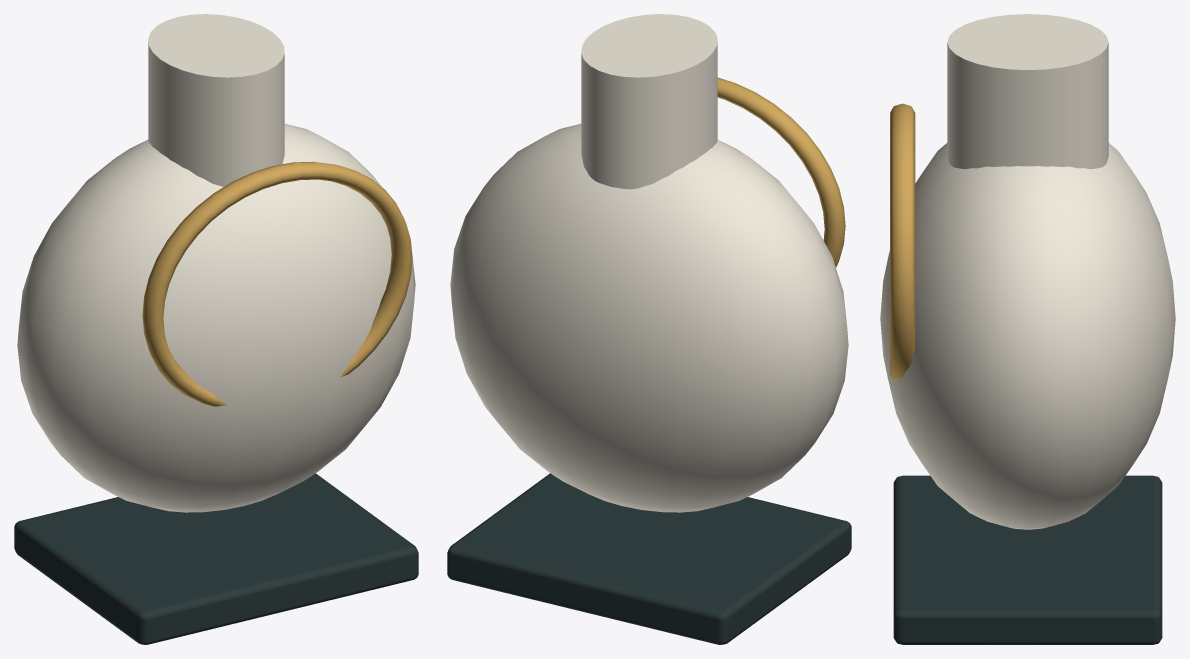
File: wp-buste-a-colliers.glb
The picture shows the model from 3 angles, left to right: view 1: azimuth 30°, elevation 25°; view 2: azimuth 150°, elevation 25°; view 3: azimuth 270°, elevation 25°; orthographic projection. The views are drawn at different scales.
Visible parts, largest first — view 1: wp-buste-a-colliers; view 2: wp-buste-a-colliers; view 3: wp-buste-a-colliers.
Part boxes in pixels (left/top/right/bottom): wp-buste-a-colliers: left=14, top=14, right=418, bottom=644; wp-buste-a-colliers: left=447, top=14, right=851, bottom=644; wp-buste-a-colliers: left=880, top=14, right=1175, bottom=644.
Size of the model in its own units: 0.3 by 0.4 by 0.2.
